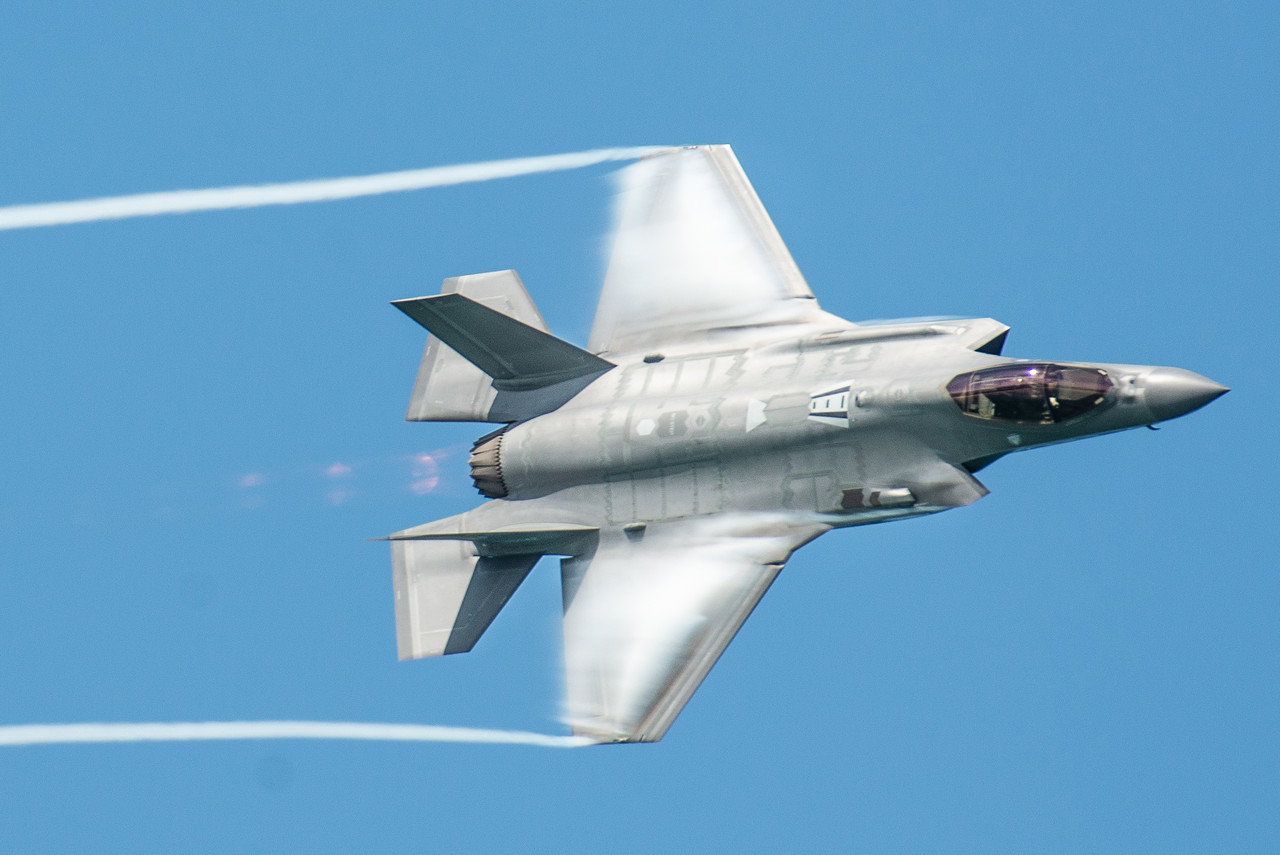F-35 Lightning: (341, 110, 1243, 819)
